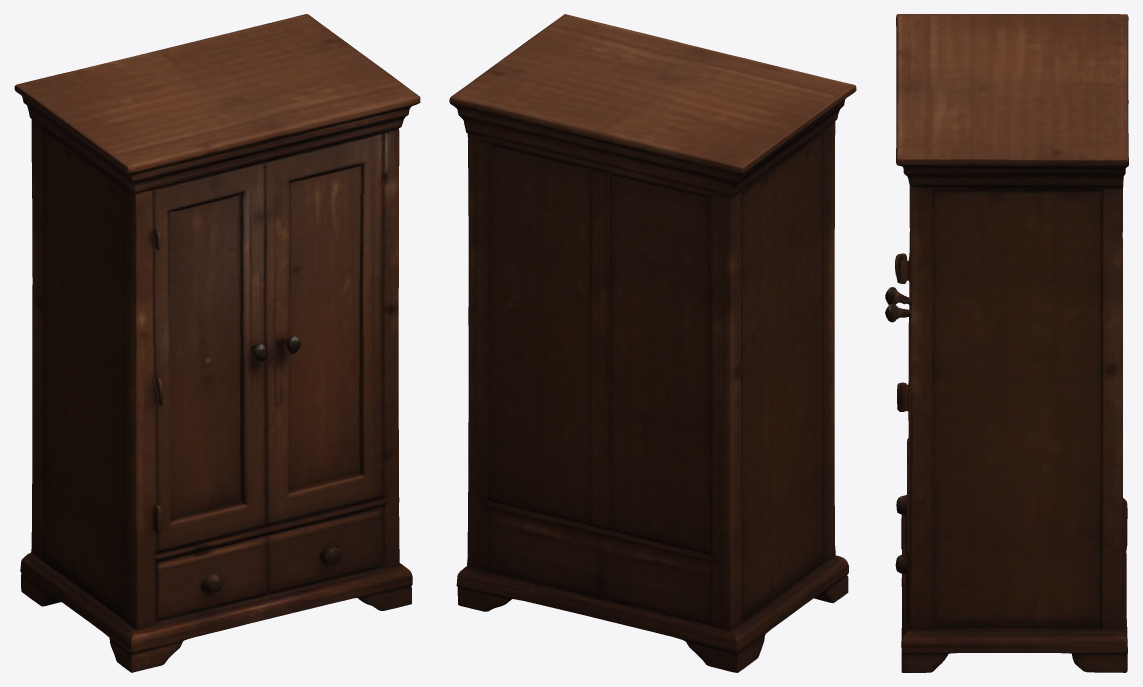
The model's file is closed_cabinet.glb.
3 renders of one model, left to right at view 1: azimuth 30°, elevation 25°; view 2: azimuth 150°, elevation 25°; view 3: azimuth 270°, elevation 25°, orthographic.
Parts seen in each view (by area): view 1: geometry_0; view 2: geometry_0; view 3: geometry_0.
Part boxes in pixels (bbox=[...]): geometry_0: bbox=[14, 14, 420, 672]; geometry_0: bbox=[449, 14, 856, 672]; geometry_0: bbox=[885, 14, 1128, 672].
Bounding box in the file's own units: 0.6054 × 1 × 0.4273.
1 material, 1 textured.
